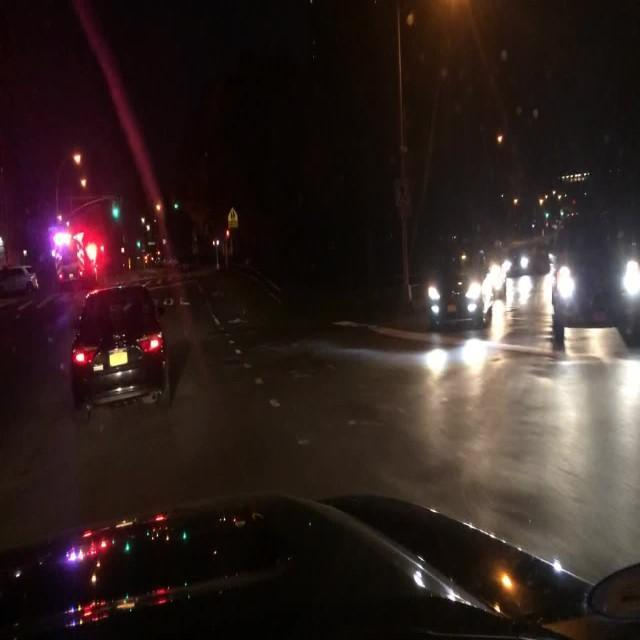normal: (71, 286, 177, 414)
